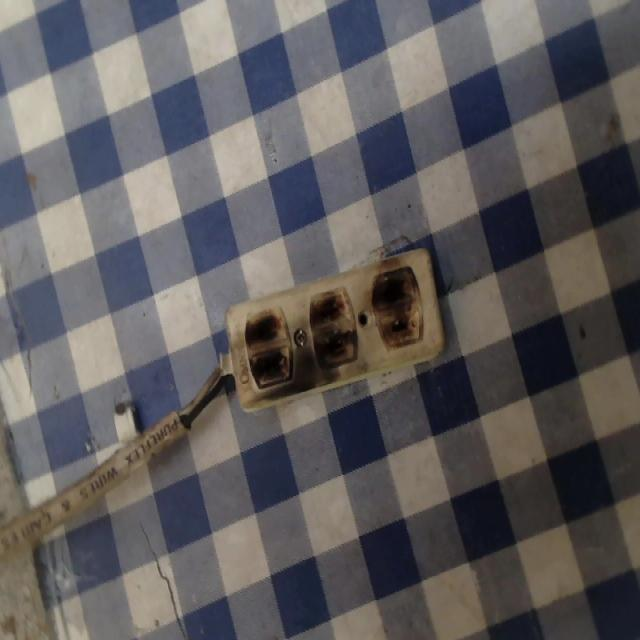-: (243, 304, 295, 399), (369, 265, 423, 352), (307, 285, 359, 372)
